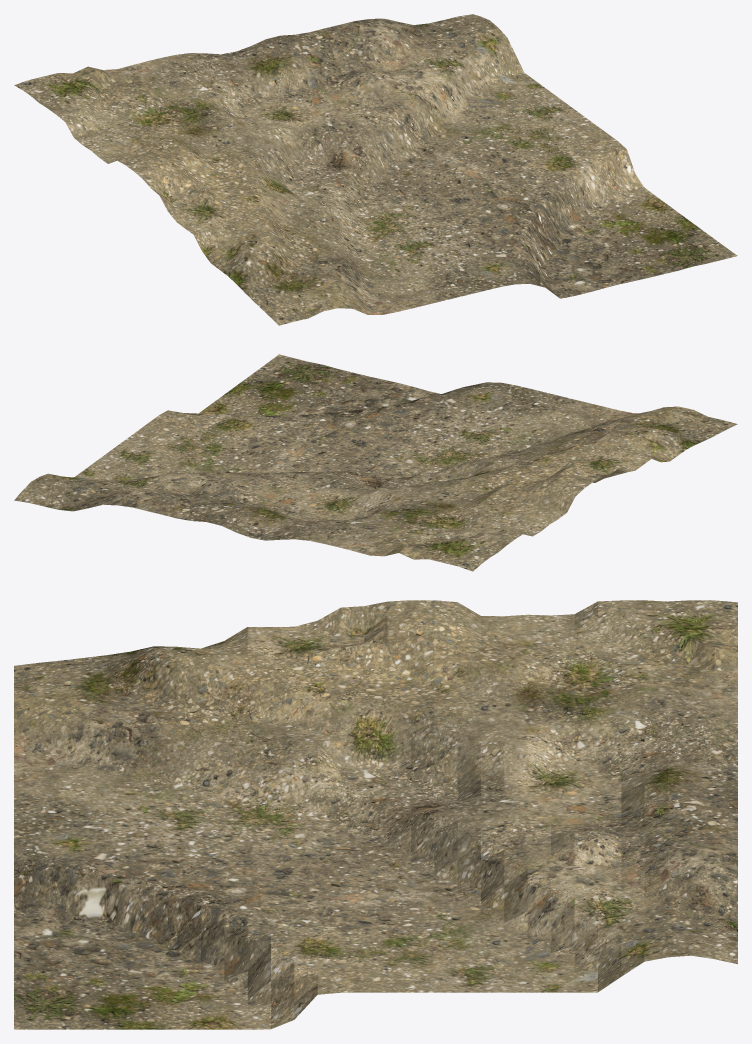
Rendered from ForestLand.fbx.
The picture shows the model from 3 angles, top to bottom: view 1: azimuth 30°, elevation 25°; view 2: azimuth 150°, elevation 25°; view 3: azimuth 270°, elevation 25°; orthographic projection. The views are drawn at different scales.
Parts seen in each view (by area): view 1: Plane; view 2: Plane; view 3: Plane.
Boxes of the visible parts, x1,y1,x2,y2 form: Plane: (14,14,737,325); Plane: (14,354,737,571); Plane: (14,600,737,1029).
Bounding box in the file's own units: 4247 × 813 × 4247.
1 material, 1 textured.
